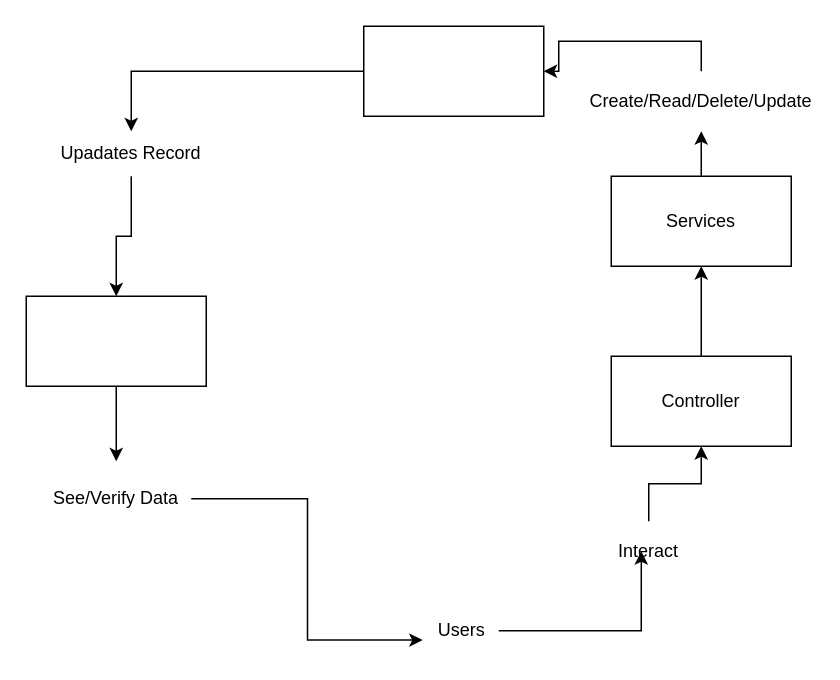
Image size: 840x680. Some labels were removed from this diagram. The centre of each missing label's shape, as x and y in pixels:
Model: the point at 453,70
View: the point at 115,340
